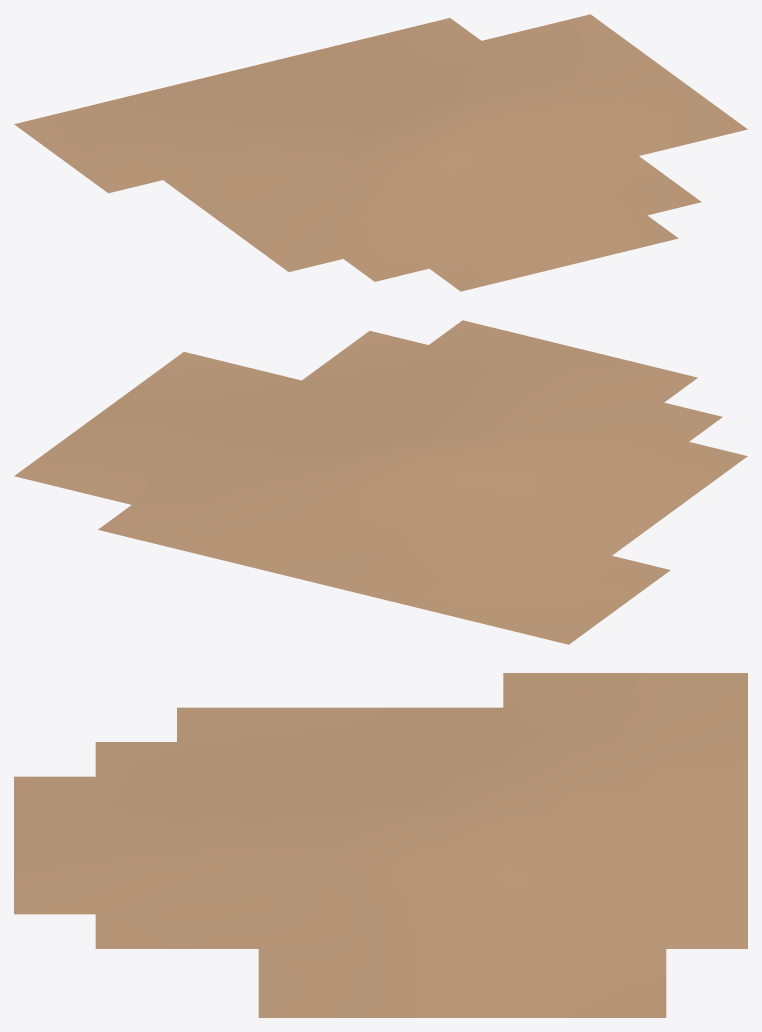
File: sand_floor.glb
3 views of the same model, one above another, from view 1: azimuth 30°, elevation 25°; view 2: azimuth 150°, elevation 25°; view 3: azimuth 270°, elevation 25° (orthographic). The views are drawn at different scales.
Visible parts, largest first — view 1: sand_floor; view 2: sand_floor; view 3: sand_floor.
Part boxes in pixels (x1,y1,x2,y2): sand_floor: (14,14,747,291); sand_floor: (14,320,747,644); sand_floor: (14,673,747,1017).
Size of the model in its own units: 2.4 by 0.064 by 2.16.
